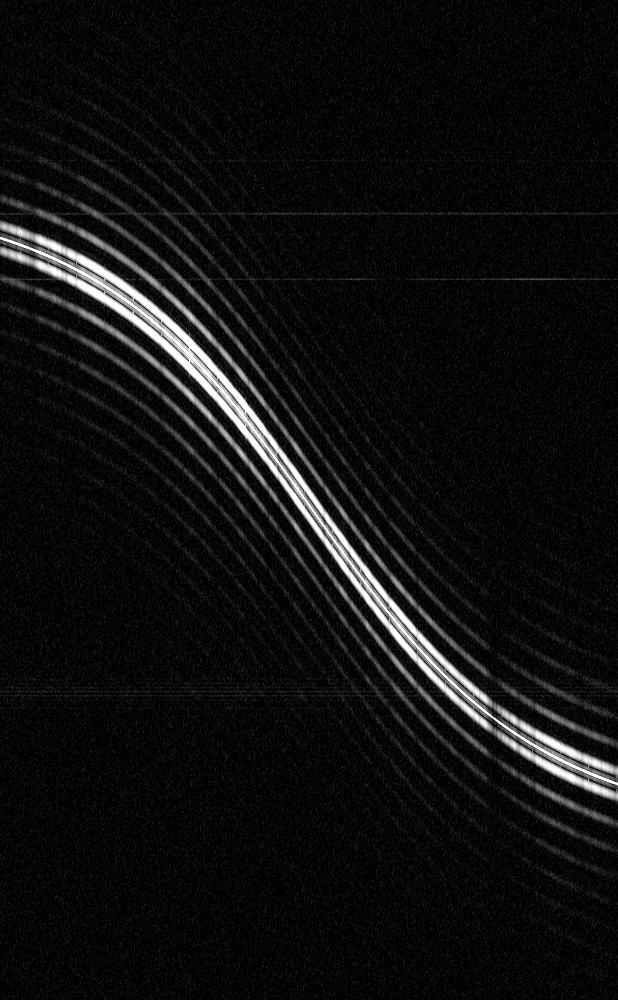signal: (0, 0, 617, 999)
